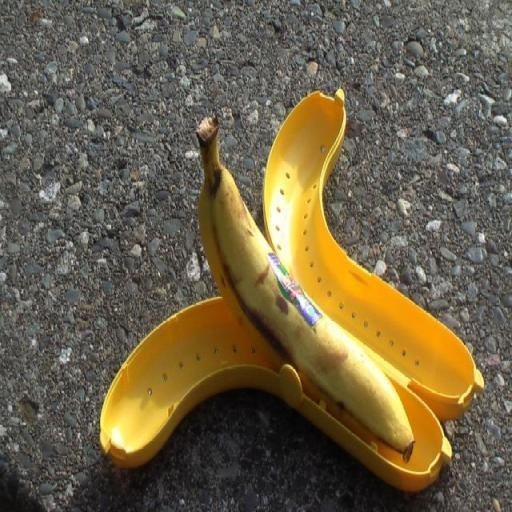fruit: (102, 75, 306, 259)
